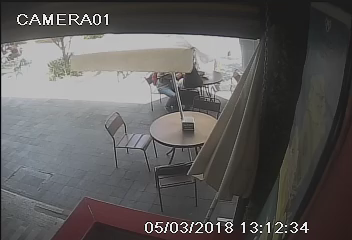libre: (105, 103, 235, 199)
ocupado: (145, 65, 232, 113)
